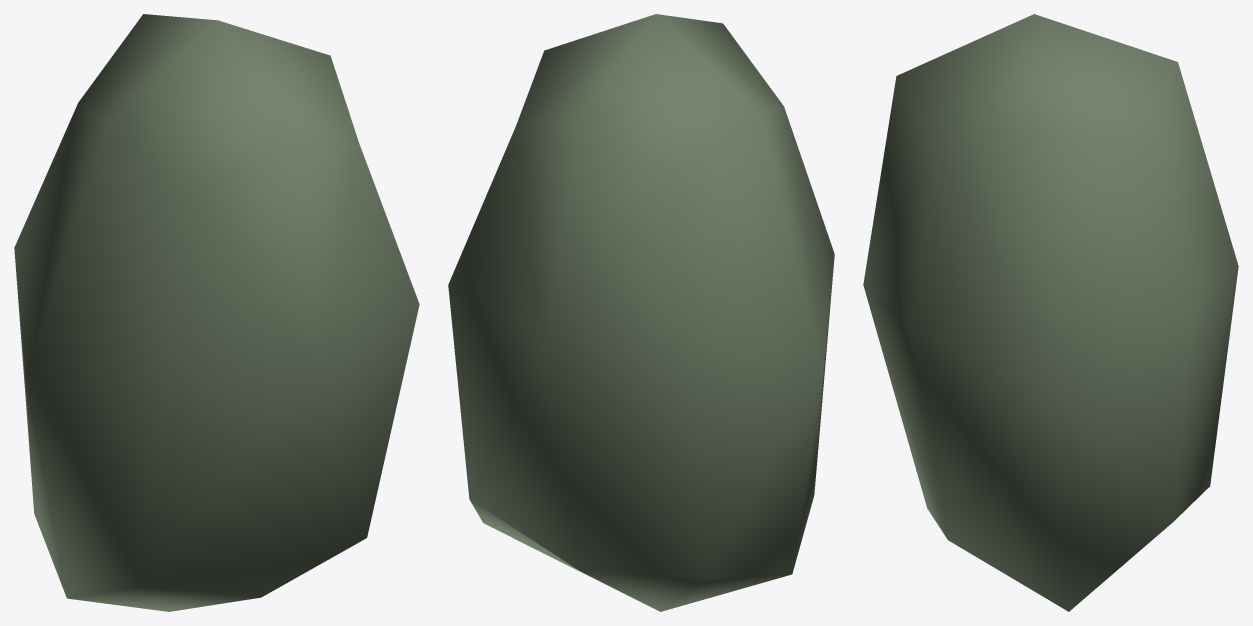
File: EP_ENV_bush.fbx
3 renders of one model, left to right at view 1: azimuth 30°, elevation 25°; view 2: azimuth 150°, elevation 25°; view 3: azimuth 270°, elevation 25°, orthographic. The views are drawn at different scales.
Visible parts, largest first — view 1: EP_ENV_bush; view 2: EP_ENV_bush; view 3: EP_ENV_bush.
Boxes of the visible parts, x1,y1,x2,y2 form: EP_ENV_bush: [14, 14, 419, 611]; EP_ENV_bush: [448, 14, 834, 611]; EP_ENV_bush: [863, 14, 1238, 611].
Bounding box in the file's own units: 76.6 × 117 × 70.51.
